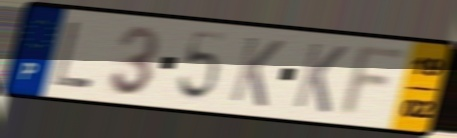3: (109, 23, 163, 98)
5: (174, 28, 231, 104)
F: (335, 42, 415, 121)
K: (226, 34, 287, 111), (290, 40, 350, 117)
L: (49, 19, 96, 91)
